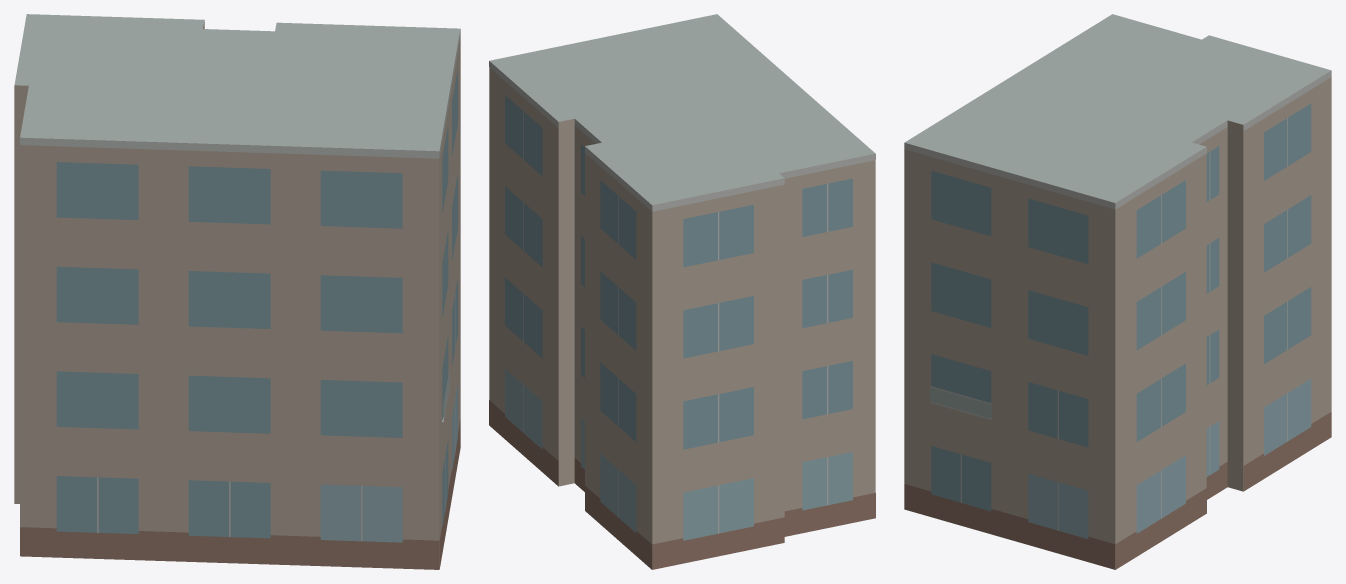
The model's file is survey-upis-32738205.glb.
3 renders of one model, left to right at view 1: azimuth 30°, elevation 25°; view 2: azimuth 150°, elevation 25°; view 3: azimuth 270°, elevation 25°, orthographic. The views are drawn at different scales.
Parts seen in each view (by area): view 1: survey-upis-32738205.tmp; view 2: survey-upis-32738205.tmp; view 3: survey-upis-32738205.tmp.
Boxes of the visible parts, x1,y1,x2,y2 form: survey-upis-32738205.tmp: (14,14,460,569); survey-upis-32738205.tmp: (489,14,875,569); survey-upis-32738205.tmp: (904,14,1331,569).
Bounding box in the file's own units: 15.21 × 13.75 × 14.52.
